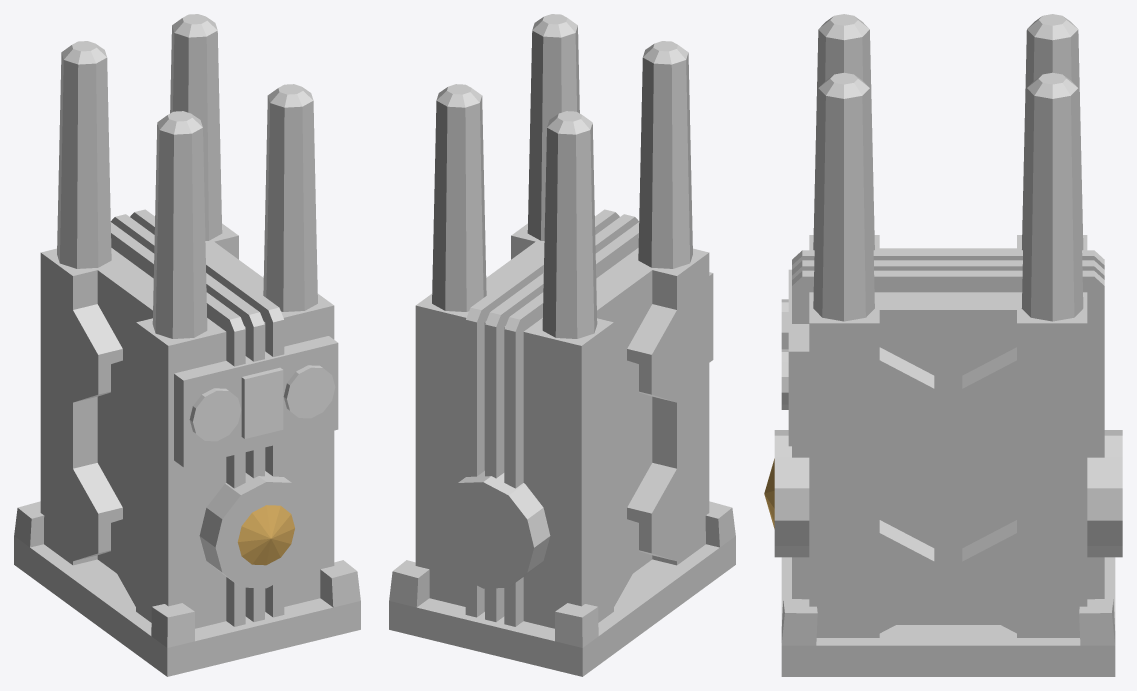
The model's file is industrial_machine002.glb.
3 renders of one model, left to right at view 1: azimuth 30°, elevation 25°; view 2: azimuth 150°, elevation 25°; view 3: azimuth 270°, elevation 25°, orthographic. The views are drawn at different scales.
Parts seen in each view (by area): view 1: IndustrialMachine002; view 2: IndustrialMachine002; view 3: IndustrialMachine002.
Boxes of the visible parts, x1,y1,x2,y2 form: IndustrialMachine002: (14, 14, 360, 676); IndustrialMachine002: (389, 14, 735, 676); IndustrialMachine002: (764, 14, 1122, 676).
Size of what is drawn, in the model's own units: 0.7 by 1.83 by 1.03.
